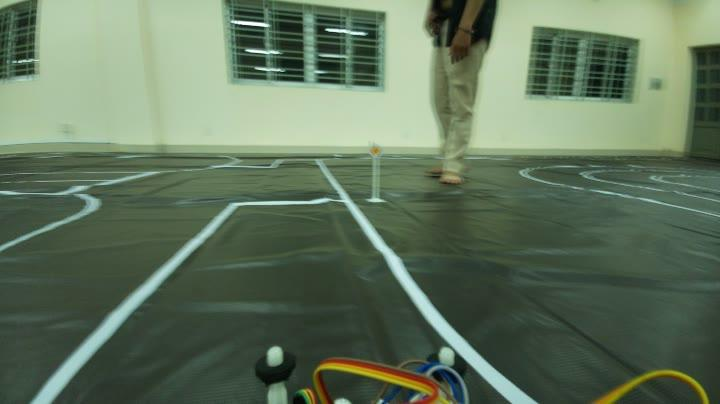priority: (362, 138, 384, 158)
